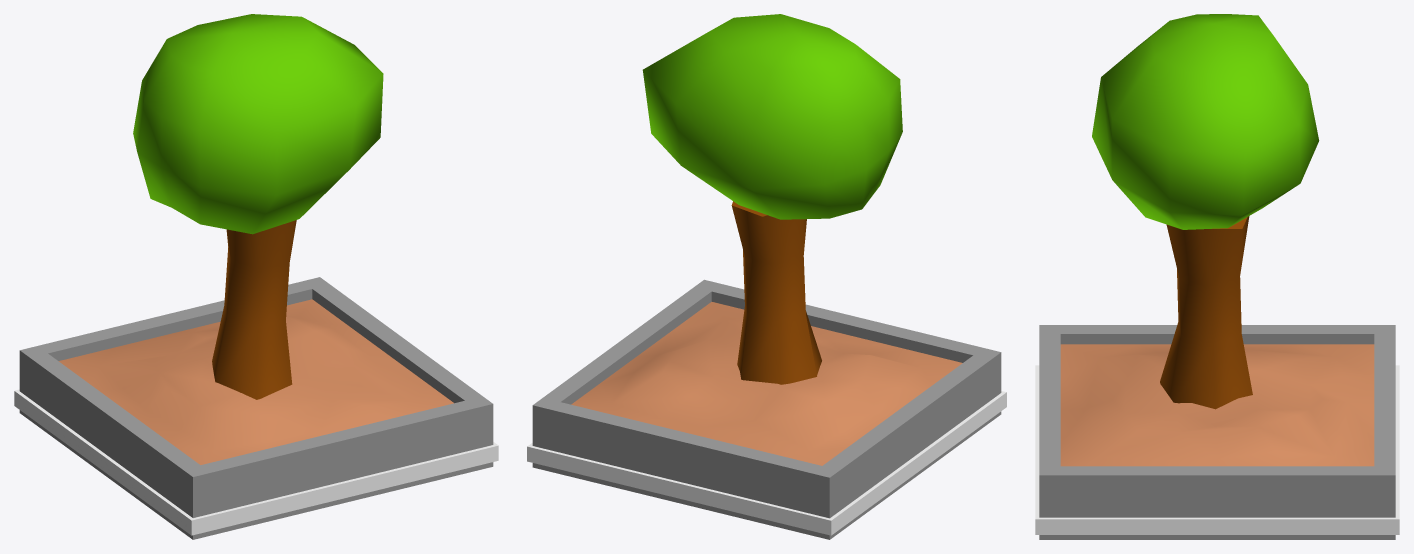
The model's file is SM_Tree_02.FBX.
The picture shows the model from 3 angles, left to right: view 1: azimuth 30°, elevation 25°; view 2: azimuth 150°, elevation 25°; view 3: azimuth 270°, elevation 25°; orthographic projection. The views are drawn at different scales.
Visible parts, largest first — view 1: SM_Tree_02; view 2: SM_Tree_02; view 3: SM_Tree_02.
Part boxes in pixels (left/top/right/bottom): SM_Tree_02: left=14, top=14, right=498, bottom=539; SM_Tree_02: left=527, top=14, right=1006, bottom=539; SM_Tree_02: left=1035, top=14, right=1399, bottom=539.
Bounding box in the file's own units: 2.05 × 2.64 × 2.05.
Materials: 1 (1 with a texture image).
